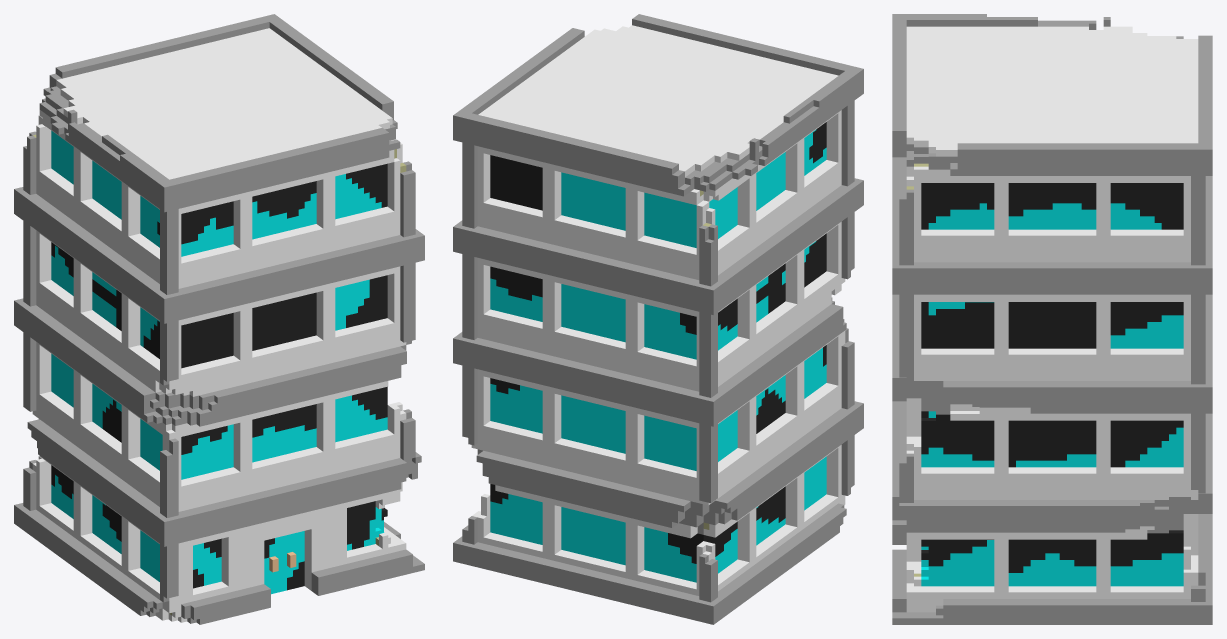
The model's file is Building4.obj.
3 renders of one model, left to right at view 1: azimuth 30°, elevation 25°; view 2: azimuth 150°, elevation 25°; view 3: azimuth 270°, elevation 25°, orthographic. The views are drawn at different scales.
Size of the model in its own units: 4.4 by 7.2 by 4.4.
1 material, 1 textured.
